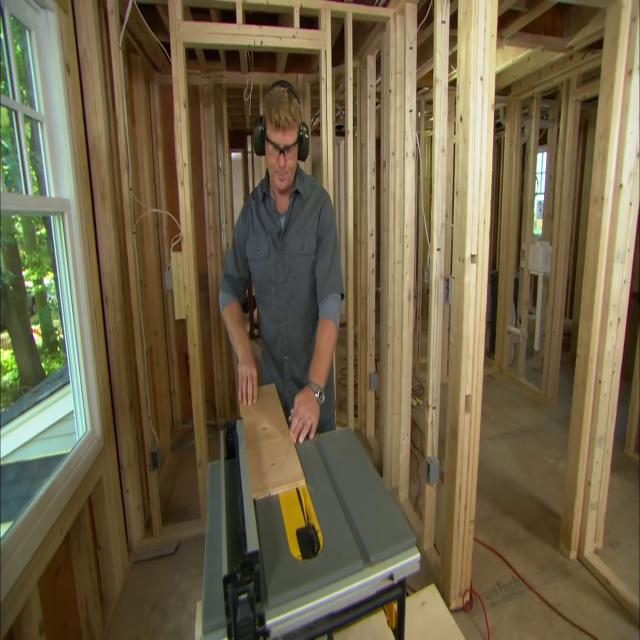earmuff: (250, 111, 268, 160), (296, 120, 312, 168)
glasses: (262, 134, 300, 164)
